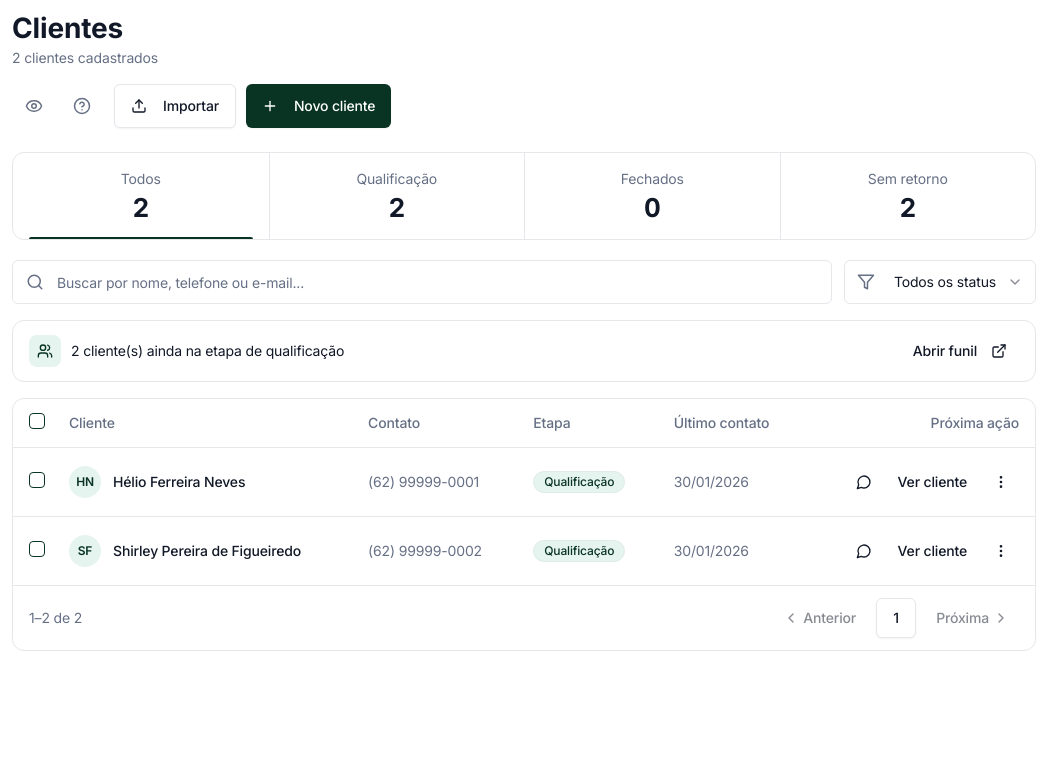
a barra em lote só aparece depois de marcar alguém
The width and height of the screenshot is (1048, 780).
Check: the text "selecionado" is not shown
Click the checkbox named "Selecionar Hélio Ferreira Neves" at (37, 480), box [29, 472, 45, 488]
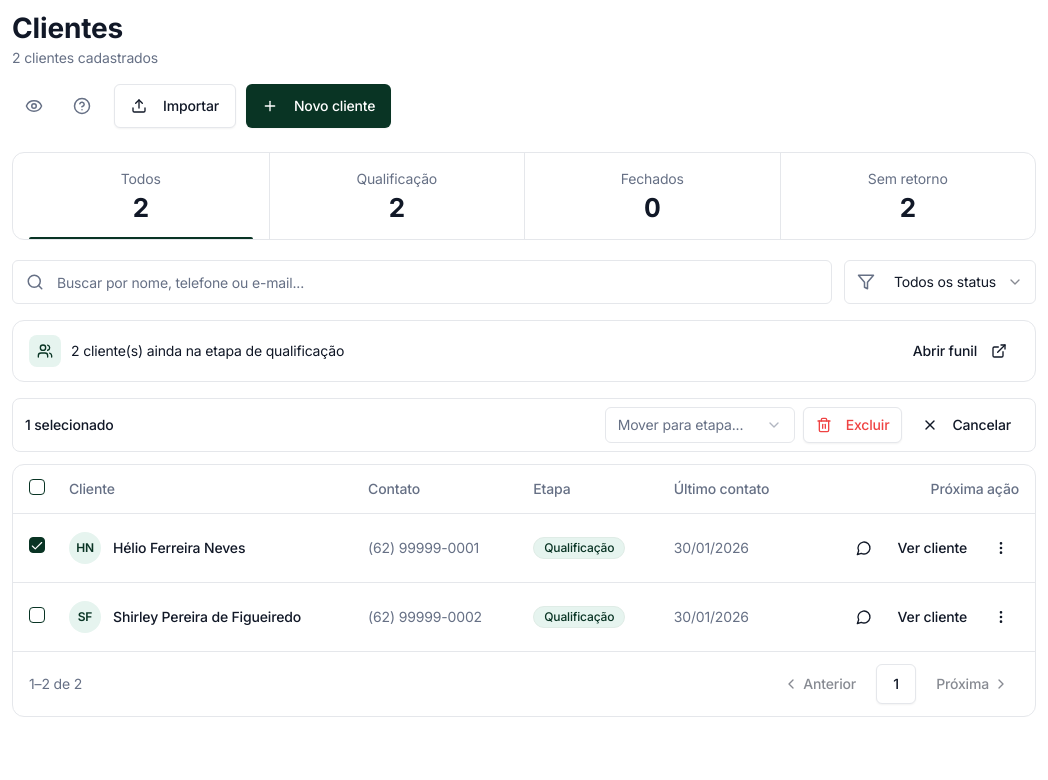
Check: the text "1 selecionado" is shown, box [25, 415, 114, 435]
